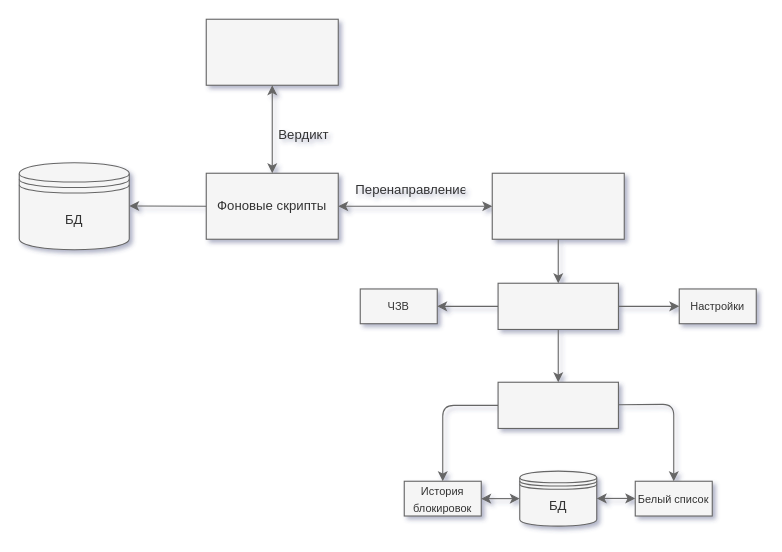
Some shapes in this 782 by 552 pixel diagram are drawn without their labels. Here are the shapes that lost their labels. From the top down, the centre of each, then its label:
the point at 271,51: Проверка сайта
the point at 557,205: Браузер
the point at 557,305: Главное окно расширения
the point at 557,404: Окно контроля
